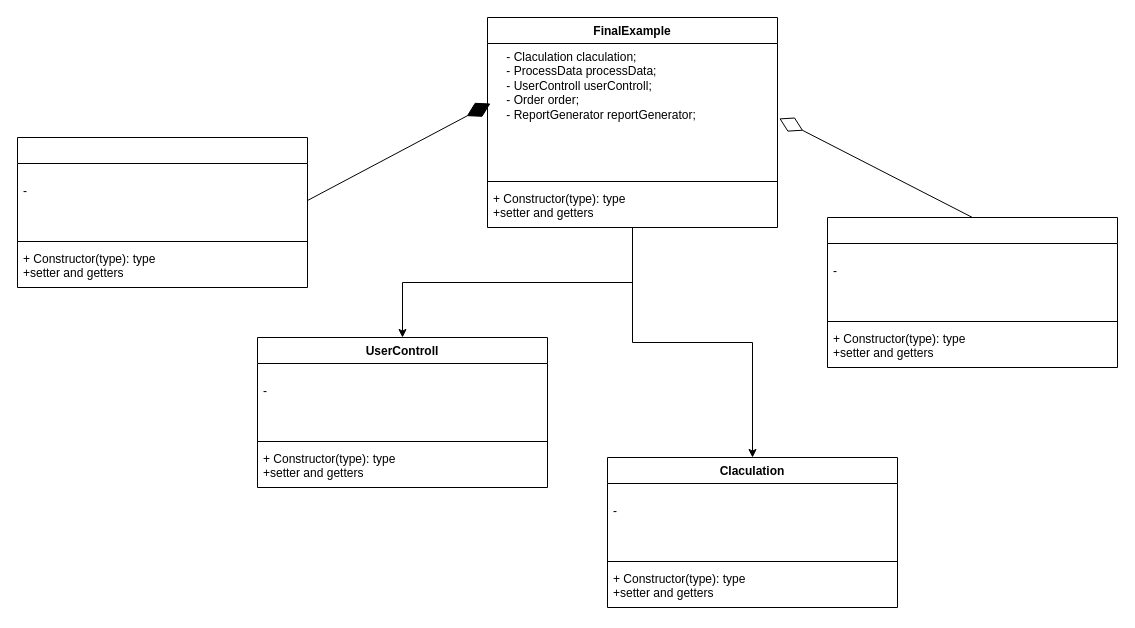
Image size: 1135x628. Some labels were removed from this diagram. The box of each missing label's shape, as (x1, y1, x2, y2) in pixels:
ProcessData: (16, 136, 308, 288)
ReportGenerator: (826, 216, 1118, 368)
